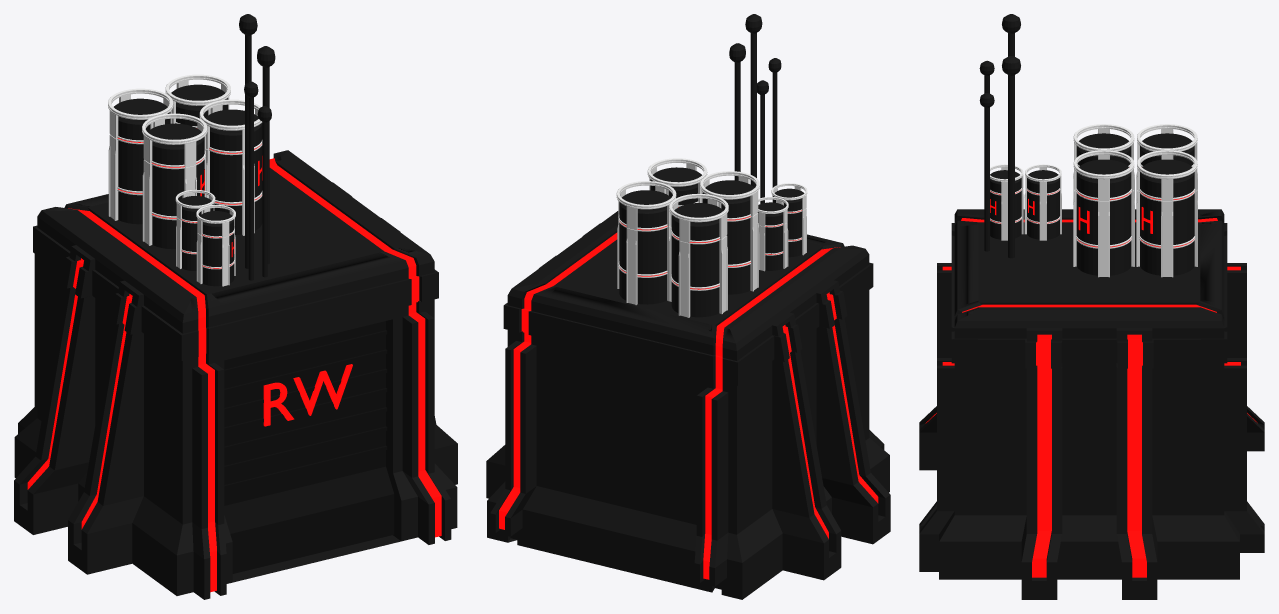
The model's file is rover_warrior_facility.glb.
The picture shows the model from 3 angles, left to right: view 1: azimuth 30°, elevation 25°; view 2: azimuth 150°, elevation 25°; view 3: azimuth 270°, elevation 25°; orthographic projection. The views are drawn at different scales.
Visible parts, largest first — view 1: Rover_Warrior_Facility, Door_001, Wall_Light_001, Hydrogen_Tank_Body_001, Hydrogen_Tank_Skeleton_001, Hydrogen_Tank_Body_002, Hydrogen_Tank_Body, Rover_Warrior_Facility_Lvl_2, Rover_Warrior_Facility_Lvl_1, Text, Antenna_Large_001, Antenna_Large (+2 smaller); view 2: Rover_Warrior_Facility, Wall_Light_001, Hydrogen_Tank_Body_001, Hydrogen_Tank_Skeleton_001, Hydrogen_Tank_Body_002, Rover_Warrior_Facility_Lvl_2, Hydrogen_Tank_Body, Rover_Warrior_Facility_Lvl_1, Antenna_Large_001, Antenne_Small_001, Antenna_Large, Antenne_Small; view 3: Rover_Warrior_Facility, Hydrogen_Tank_Body_002, Wall_Light_001, Rover_Warrior_Facility_Lvl_2, Hydrogen_Tank_Body, Rover_Warrior_Facility_Lvl_1, Hydrogen_Tank_Body_001, Hydrogen_Tank_Skeleton_001, Antenne_Small_001, Antenne_Small, Antenna_Large_001.
Boxes of the visible parts, box(x1,y1,x2,y2) form: Rover_Warrior_Facility: box(14, 150, 457, 599); Door_001: box(224, 321, 394, 573); Wall_Light_001: box(27, 158, 441, 592); Hydrogen_Tank_Body_001: box(114, 98, 204, 249); Hydrogen_Tank_Skeleton_001: box(108, 88, 207, 245); Hydrogen_Tank_Body_002: box(171, 84, 262, 234); Hydrogen_Tank_Body: box(179, 196, 234, 286); Rover_Warrior_Facility_Lvl_2: box(165, 74, 262, 235); Rover_Warrior_Facility_Lvl_1: box(175, 189, 235, 286); Text: box(263, 364, 352, 426); Antenna_Large_001: box(239, 14, 257, 268); Antenna_Large: box(244, 81, 258, 280); Rover_Warrior_Facility: box(486, 211, 890, 599); Wall_Light_001: box(499, 232, 878, 579); Hydrogen_Tank_Body_001: box(671, 180, 754, 317); Hydrogen_Tank_Skeleton_001: box(669, 171, 759, 317); Hydrogen_Tank_Body_002: box(619, 167, 701, 304); Rover_Warrior_Facility_Lvl_2: box(616, 158, 707, 305); Hydrogen_Tank_Body: box(757, 188, 804, 270); Rover_Warrior_Facility_Lvl_1: box(758, 183, 807, 271); Antenna_Large_001: box(745, 14, 762, 187); Antenne_Small_001: box(729, 43, 745, 180); Antenna_Large: box(768, 58, 781, 190); Antenne_Small: box(757, 80, 768, 203); Rover_Warrior_Facility: box(919, 209, 1264, 599); Hydrogen_Tank_Body_002: box(1076, 159, 1194, 275); Wall_Light_001: box(925, 218, 1257, 577); Rover_Warrior_Facility_Lvl_2: box(1073, 150, 1197, 277); Hydrogen_Tank_Body: box(990, 170, 1059, 239); Rover_Warrior_Facility_Lvl_1: box(990, 164, 1061, 240); Hydrogen_Tank_Body_001: box(1076, 133, 1194, 165); Hydrogen_Tank_Skeleton_001: box(1073, 124, 1197, 200); Antenne_Small_001: box(1002, 56, 1020, 258); Antenne_Small: box(979, 93, 994, 251); Antenna_Large_001: box(1002, 14, 1020, 56).
Bounding box in the file's own units: 9.27 × 12.55 × 8.05.
